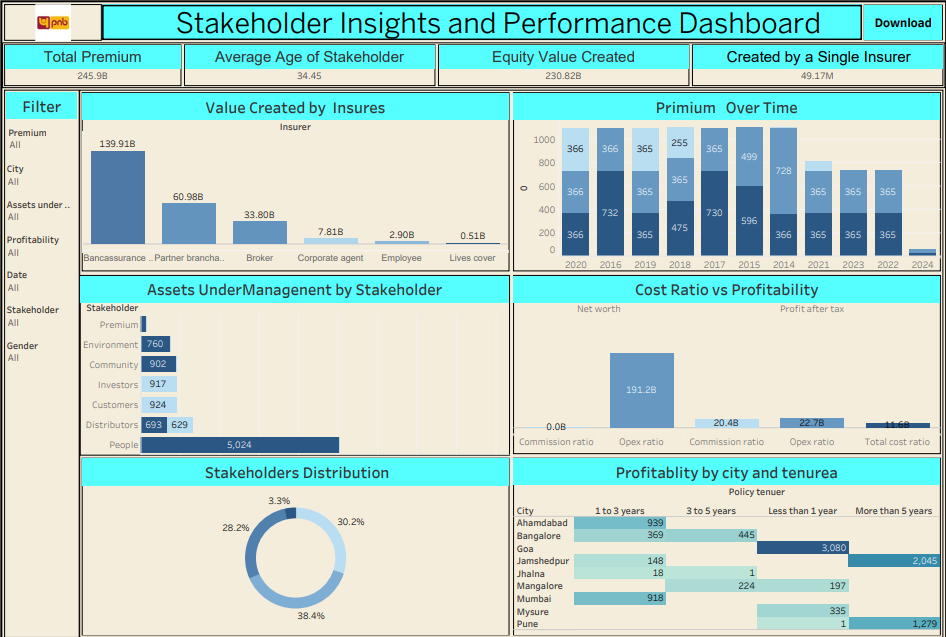

The page's visual inventory and layout, read from the dashboard file:
{"tool":"tableau","page":{"name":"Stakeholder Insights and Performance Dashboard ","canvas":[1000,1000],"units":"permille","ordinal":0},"visuals":[{"type":"image","param":"Image/punjab-national-bank-pnb-logo-png_seeklogo-386963.png","box":[12.5,15.4,120.3,55.4]},{"type":"text","box":[132.8,15.4,834.8,55.4]},{"type":"dashboard-object","box":[967.6,15.4,19.9,55.4]},{"type":"worksheet","title":"Total premium","mark":"Automatic","box":[10.6,74.6,222.6,67.7]},{"type":"worksheet","title":"AVERAGE AGE OF STAKEHOLDER","mark":"Automatic","box":[233.2,74.6,252.1,67.7]},{"type":"worksheet","title":"Equity Value Created","mark":"Automatic","box":[485.2,74.6,252.1,67.7]},{"type":"worksheet","title":"Highest Value Created by a Single Insurer. ","mark":"Automatic","box":[737.3,74.6,252.1,67.7]},{"type":"worksheet","title":"Filter","mark":"Automatic","box":[13.1,146.9,91.7,47.7]},{"type":"worksheet","title":"Value Created by  Insures","mark":"Automatic","rows":["Value Created"],"cols":["Insurer"],"box":[106,146.9,440.8,279.2]},{"type":"worksheet","title":"Primium   Over Time ","mark":"Bar","rows":["Premium 1"],"cols":["Date"],"box":[546.8,146.9,440.2,279.2]},{"type":"filter","title":"Filter","param":"[federated.0lxvyx50axs8em1fxalsy0gphyi1].[none:Premium 1:nk]","box":[13.1,194.6,91.7,58.5]},{"type":"filter","title":"Filter","param":"[federated.0lxvyx50axs8em1fxalsy0gphyi1].[none:City:nk]","box":[13.1,253.1,91.7,53.8]},{"type":"filter","title":"Filter","param":"[federated.0lxvyx50axs8em1fxalsy0gphyi1].[none:Assets under management:nk]","box":[13.1,306.9,91.7,53.8]},{"type":"filter","title":"Filter","param":"[federated.0lxvyx50axs8em1fxalsy0gphyi1].[none:Profitability:nk]","box":[13.1,360.8,91.7,53.8]},{"type":"filter","title":"Filter","param":"[federated.0lxvyx50axs8em1fxalsy0gphyi1].[my:Date:ok]","box":[13.1,414.6,91.7,53.8]},{"type":"worksheet","title":"Assets UnderManagenent by Stakeholder","mark":"Automatic","rows":["Stakeholder"],"cols":["Assets under management"],"box":[106,426.2,440.8,279.2]},{"type":"worksheet","title":"Cost Ratio vs Profitability","mark":"Automatic","rows":["Value Created"],"cols":["Profitability","Cost ratio"],"box":[546.8,426.2,440.2,279.2]},{"type":"filter","title":"Filter","param":"[federated.0lxvyx50axs8em1fxalsy0gphyi1].[none:Stakeholder:nk]","box":[13.1,468.4,91.7,53.8]},{"type":"filter","title":"Filter","param":"[federated.0lxvyx50axs8em1fxalsy0gphyi1].[none:Gender:nk]","box":[13.1,522.3,91.7,53.8]},{"type":"worksheet","title":"Stakeholders Distribution","mark":"Pie","rows":["Calculation_447545236514791424","Calculation_447545236514807809"],"box":[106,705.4,440.8,278.5]},{"type":"worksheet","title":"Profitablity by city and tenurea","mark":"Square","rows":["City"],"cols":["Policy tenuer"],"box":[546.8,705.4,440.2,278.5]}]}

Visuals, with their boxes on the dashboard's canvas, which has no fixed pixel size, in thousandths of its width and height (x1, y1, x2, y2). These are canvas units, not pixel positions in the 946x637 screenshot, which may show the page scaled, cropped or inside an application window:
image: x1=12, y1=15, x2=133, y2=71
text: x1=133, y1=15, x2=968, y2=71
dashboard-object: x1=968, y1=15, x2=988, y2=71
"Total premium" worksheet: x1=11, y1=75, x2=233, y2=142
"AVERAGE AGE OF STAKEHOLDER" worksheet: x1=233, y1=75, x2=485, y2=142
"Equity Value Created" worksheet: x1=485, y1=75, x2=737, y2=142
"Highest Value Created by a Single Insurer. " worksheet: x1=737, y1=75, x2=989, y2=142
"Filter" worksheet: x1=13, y1=147, x2=105, y2=195
"Value Created by  Insures" worksheet: x1=106, y1=147, x2=547, y2=426
"Primium   Over Time " worksheet (Bar marks): x1=547, y1=147, x2=987, y2=426
"Filter" filter: x1=13, y1=195, x2=105, y2=253
"Filter" filter: x1=13, y1=253, x2=105, y2=307
"Filter" filter: x1=13, y1=307, x2=105, y2=361
"Filter" filter: x1=13, y1=361, x2=105, y2=415
"Filter" filter: x1=13, y1=415, x2=105, y2=468
"Assets UnderManagenent by Stakeholder" worksheet: x1=106, y1=426, x2=547, y2=705
"Cost Ratio vs Profitability" worksheet: x1=547, y1=426, x2=987, y2=705
"Filter" filter: x1=13, y1=468, x2=105, y2=522
"Filter" filter: x1=13, y1=522, x2=105, y2=576
"Stakeholders Distribution" worksheet (Pie marks): x1=106, y1=705, x2=547, y2=984
"Profitablity by city and tenurea" worksheet (Square marks): x1=547, y1=705, x2=987, y2=984
